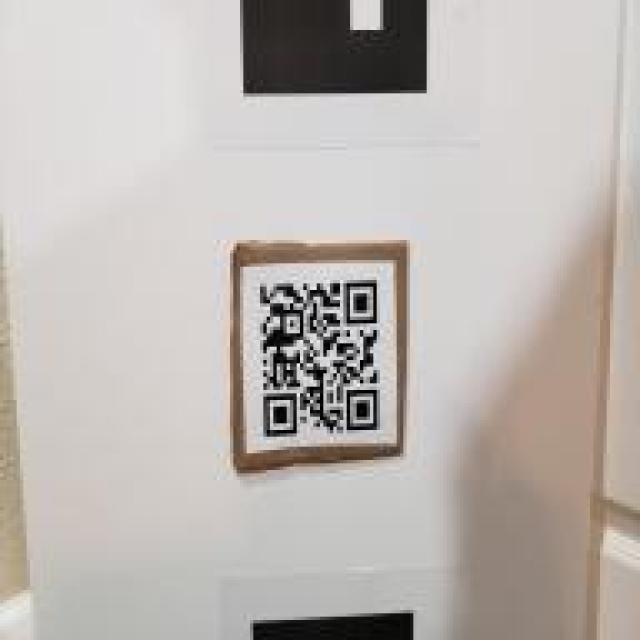QR_CODE: (257, 270, 383, 447)
